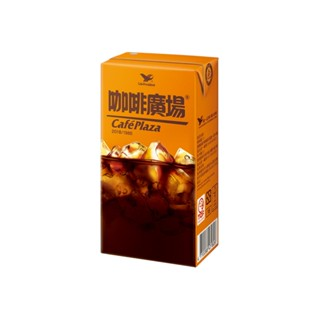鋁箔包: (98, 51, 222, 269)
